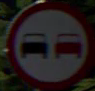No overtake: (5, 6, 86, 80)
